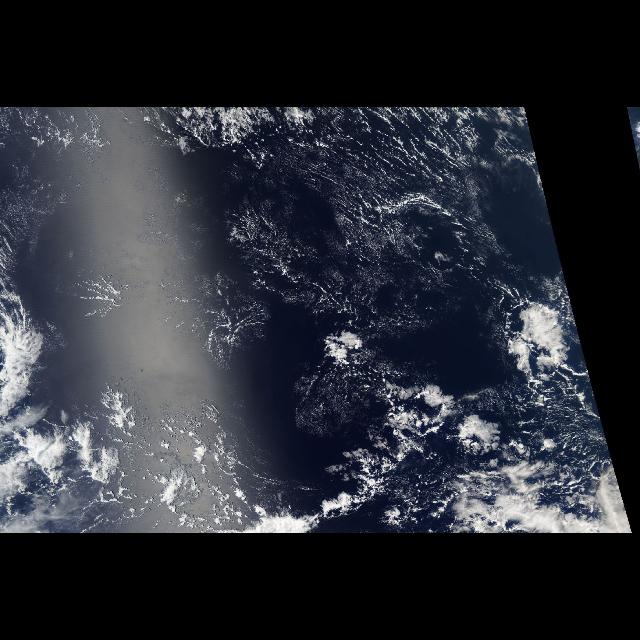Flower: (1, 303, 217, 533)
Gravel: (3, 395, 249, 533), (309, 378, 526, 534)
Sugar: (279, 107, 493, 321)
